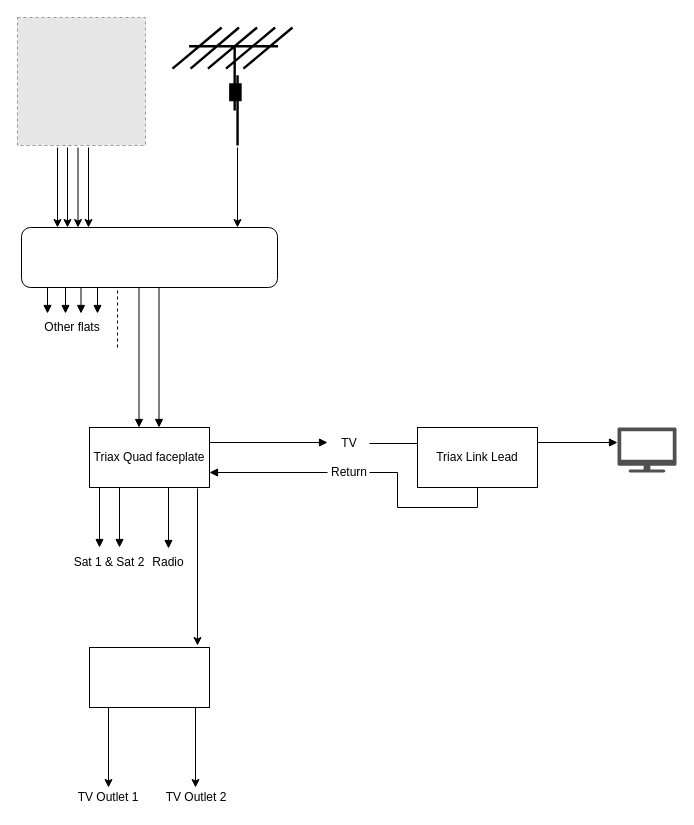
The diagram is 694 pixels wide and 825 high, and some of its shapes have lost their labels. Grey dashed boxes stand in for pictures. The centre of each missing label's shape, as x and y in pixels:
"Signal Amplifier" goes at point (149, 677).
"Triax Quadruplex" goes at point (149, 257).
